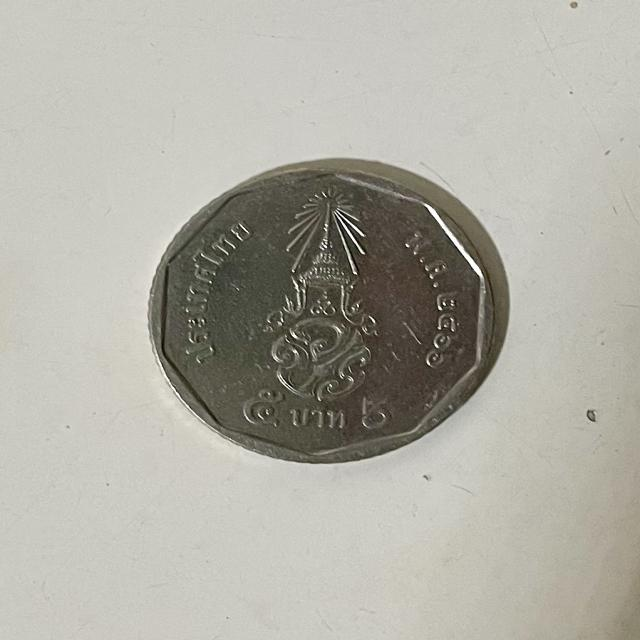5 Bath: (139, 160, 506, 476)
